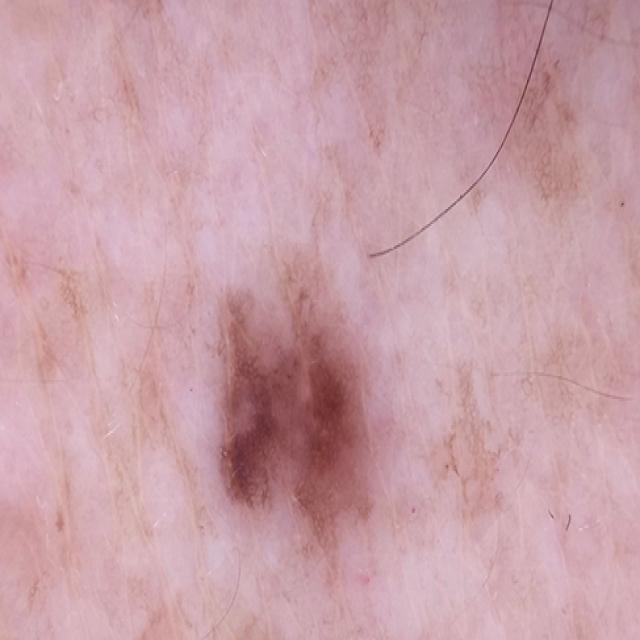Keratosis: (184, 261, 394, 565)
